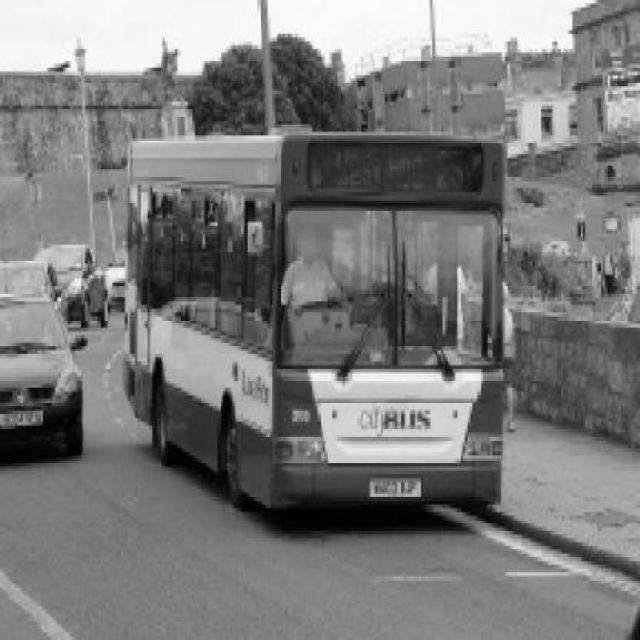Bus: (121, 127, 510, 514)
